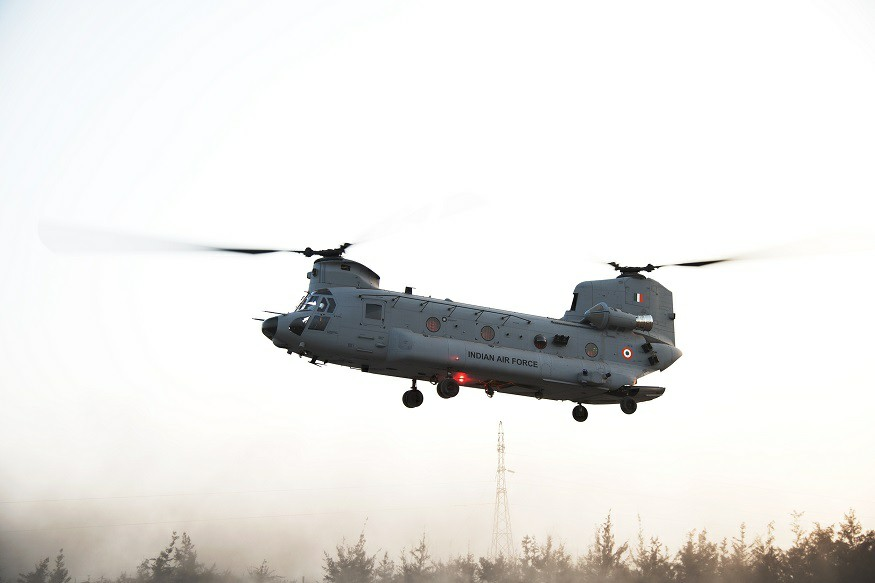chinook: (248, 221, 729, 440)
